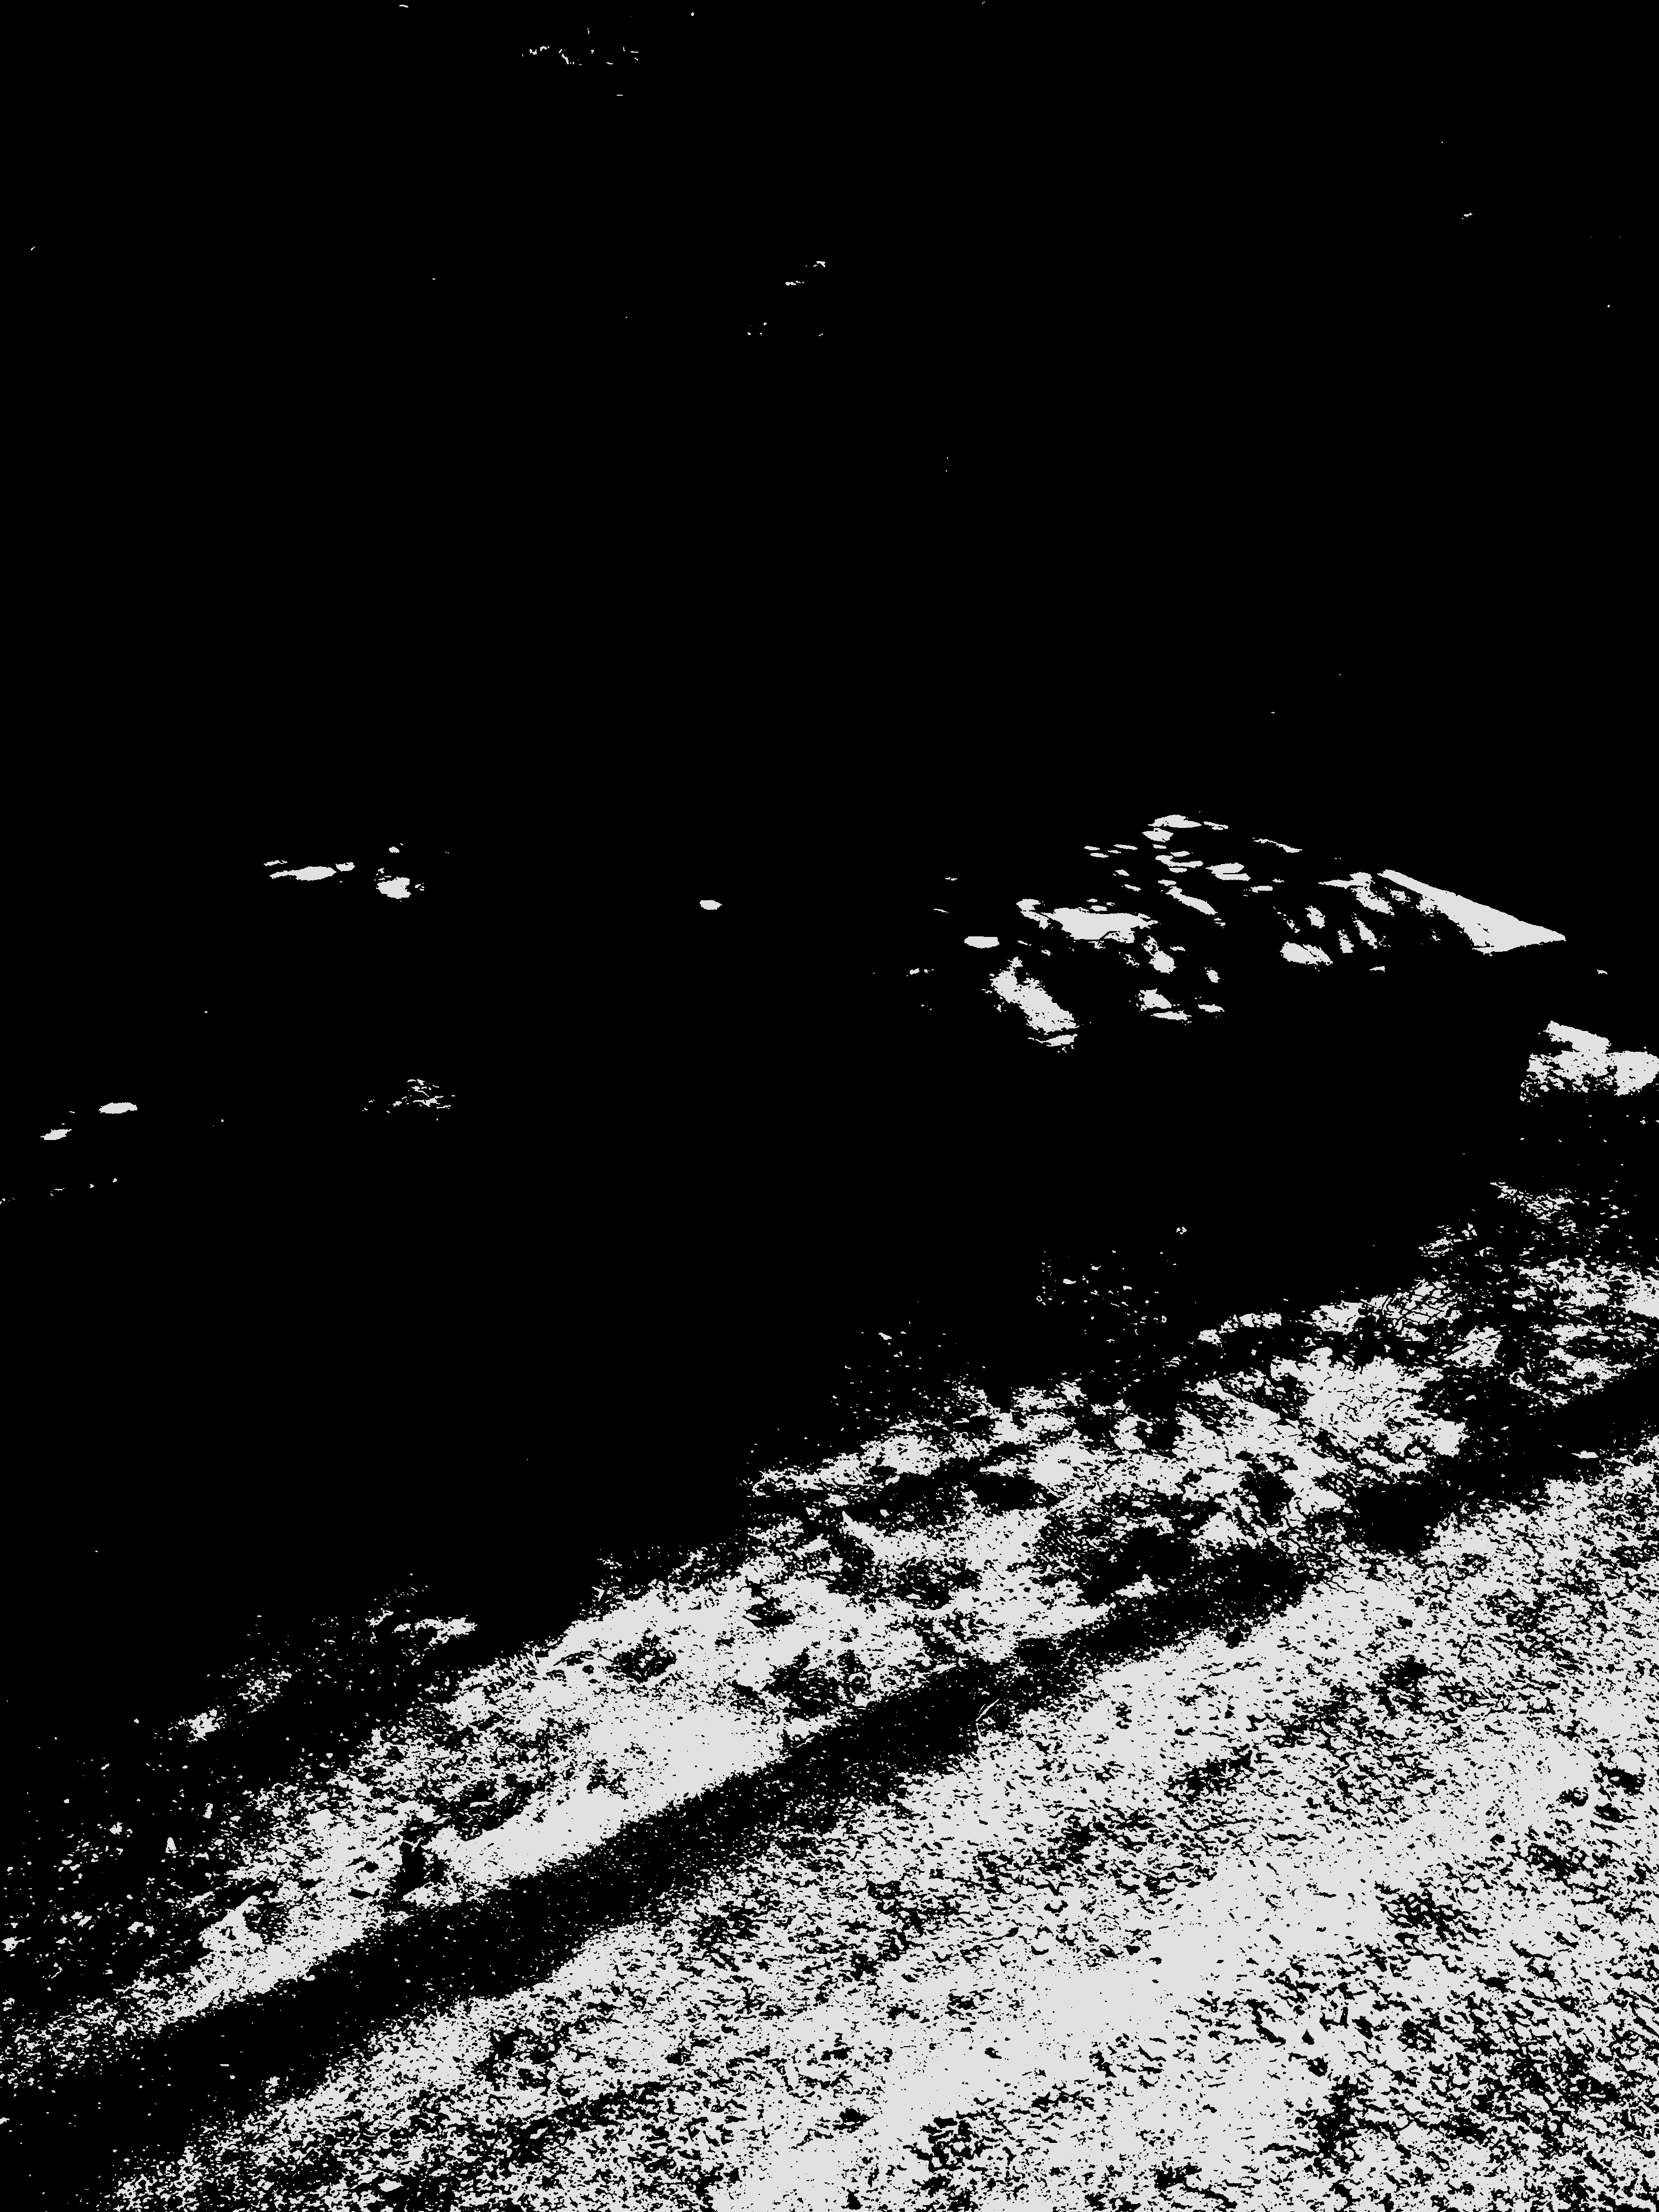text: (493, 354, 1044, 752)
